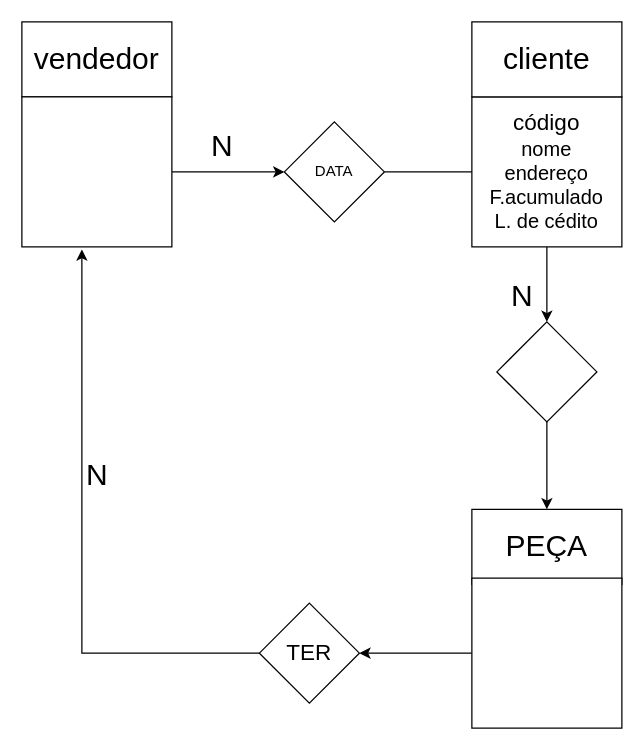
Some shapes in this 644 by 750 pixel diagram are drawn without their labels. The shapes that lost their labels are listed below. From the top down, each one's box as (x1, y1, x2, y2) in pixels, then its label:
(21, 96, 172, 247): código nome endereço comissão número
(496, 321, 597, 422): FAZ
(471, 577, 622, 728): Código descrição preço quantidade
